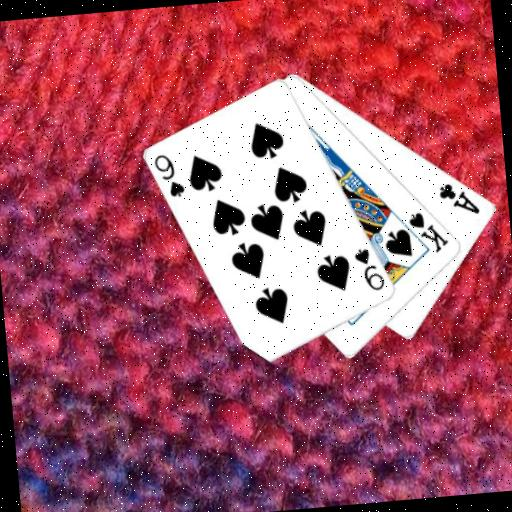9S: (351, 244, 388, 295), (151, 150, 188, 201)
AC: (435, 177, 482, 219)
KS: (405, 207, 451, 258)
